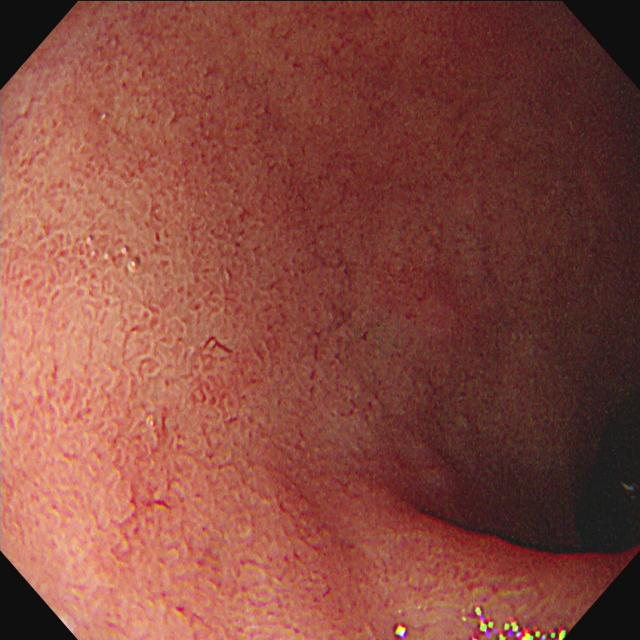U: (470, 603, 567, 640), (394, 624, 410, 639)
